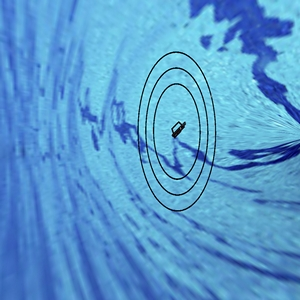circle: (118, 28, 237, 217)
submarine: (165, 111, 190, 152)
